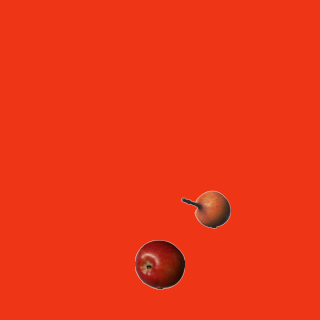Apple Braeburn: (134, 239, 184, 289)
Granadilla: (180, 184, 230, 234)
